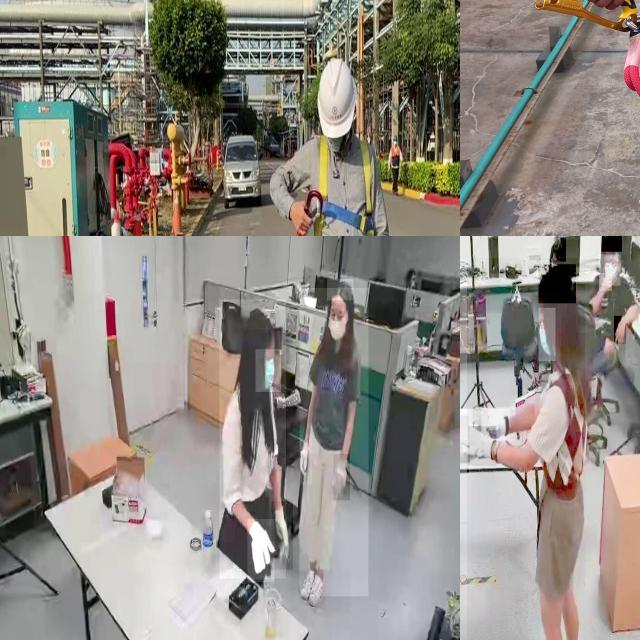Harness: (305, 136, 375, 236)
face_mask: (255, 349, 281, 392), (325, 306, 349, 349), (538, 308, 556, 361), (600, 254, 620, 286)
hand_glove: (247, 519, 275, 583), (272, 501, 294, 571), (468, 426, 496, 466), (481, 406, 510, 441), (334, 454, 351, 501), (300, 435, 312, 485), (460, 415, 469, 473)
hand_noglove: (614, 316, 626, 345), (599, 273, 613, 292)
head_nohelmet: (538, 264, 576, 304), (242, 306, 272, 330), (327, 279, 354, 301), (548, 238, 566, 262), (600, 236, 622, 252)
person: (471, 258, 585, 640), (299, 288, 369, 597), (220, 300, 286, 580), (592, 236, 640, 367)
shoes: (306, 571, 326, 609), (299, 564, 318, 599)
